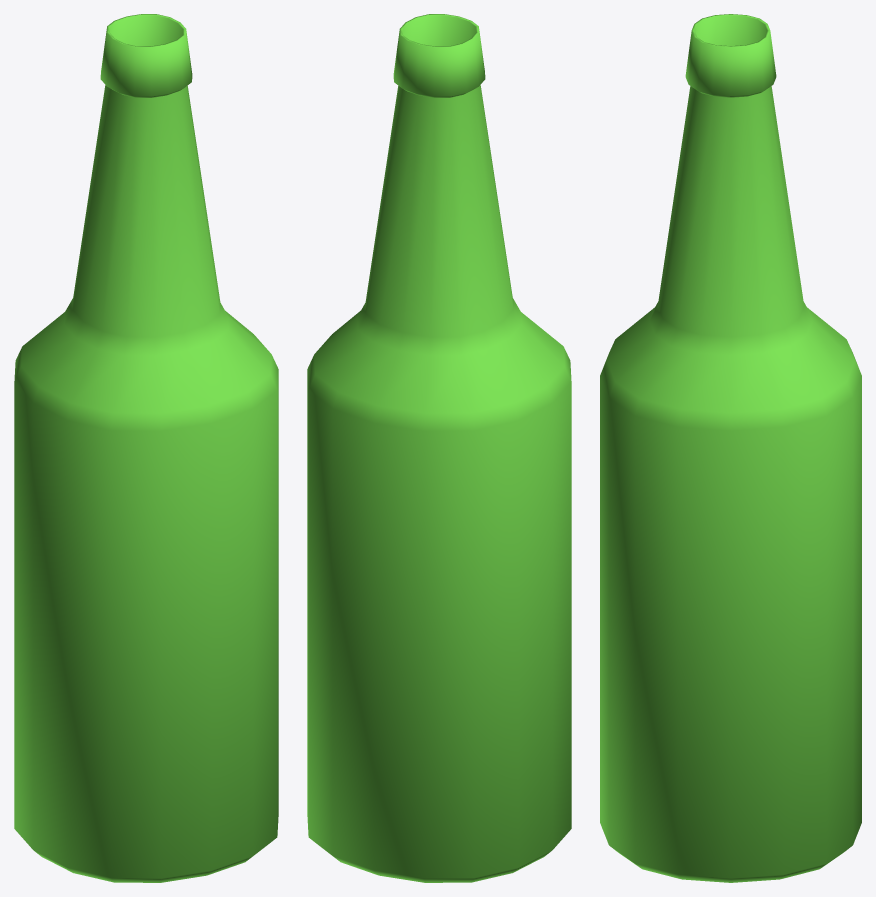
Rendered from Bottle.fbx.
The picture shows the model from 3 angles, left to right: view 1: azimuth 30°, elevation 25°; view 2: azimuth 150°, elevation 25°; view 3: azimuth 270°, elevation 25°; orthographic projection.
Parts seen in each view (by area): view 1: Bottle; view 2: Bottle; view 3: Bottle.
Part boxes in pixels (<box>): Bottle: <box>14,14,278,882</box>; Bottle: <box>307,14,571,882</box>; Bottle: <box>600,14,861,882</box>.
Size of the model in its own units: 46.81 by 158 by 46.81.
